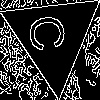C: (28, 12, 74, 53)
